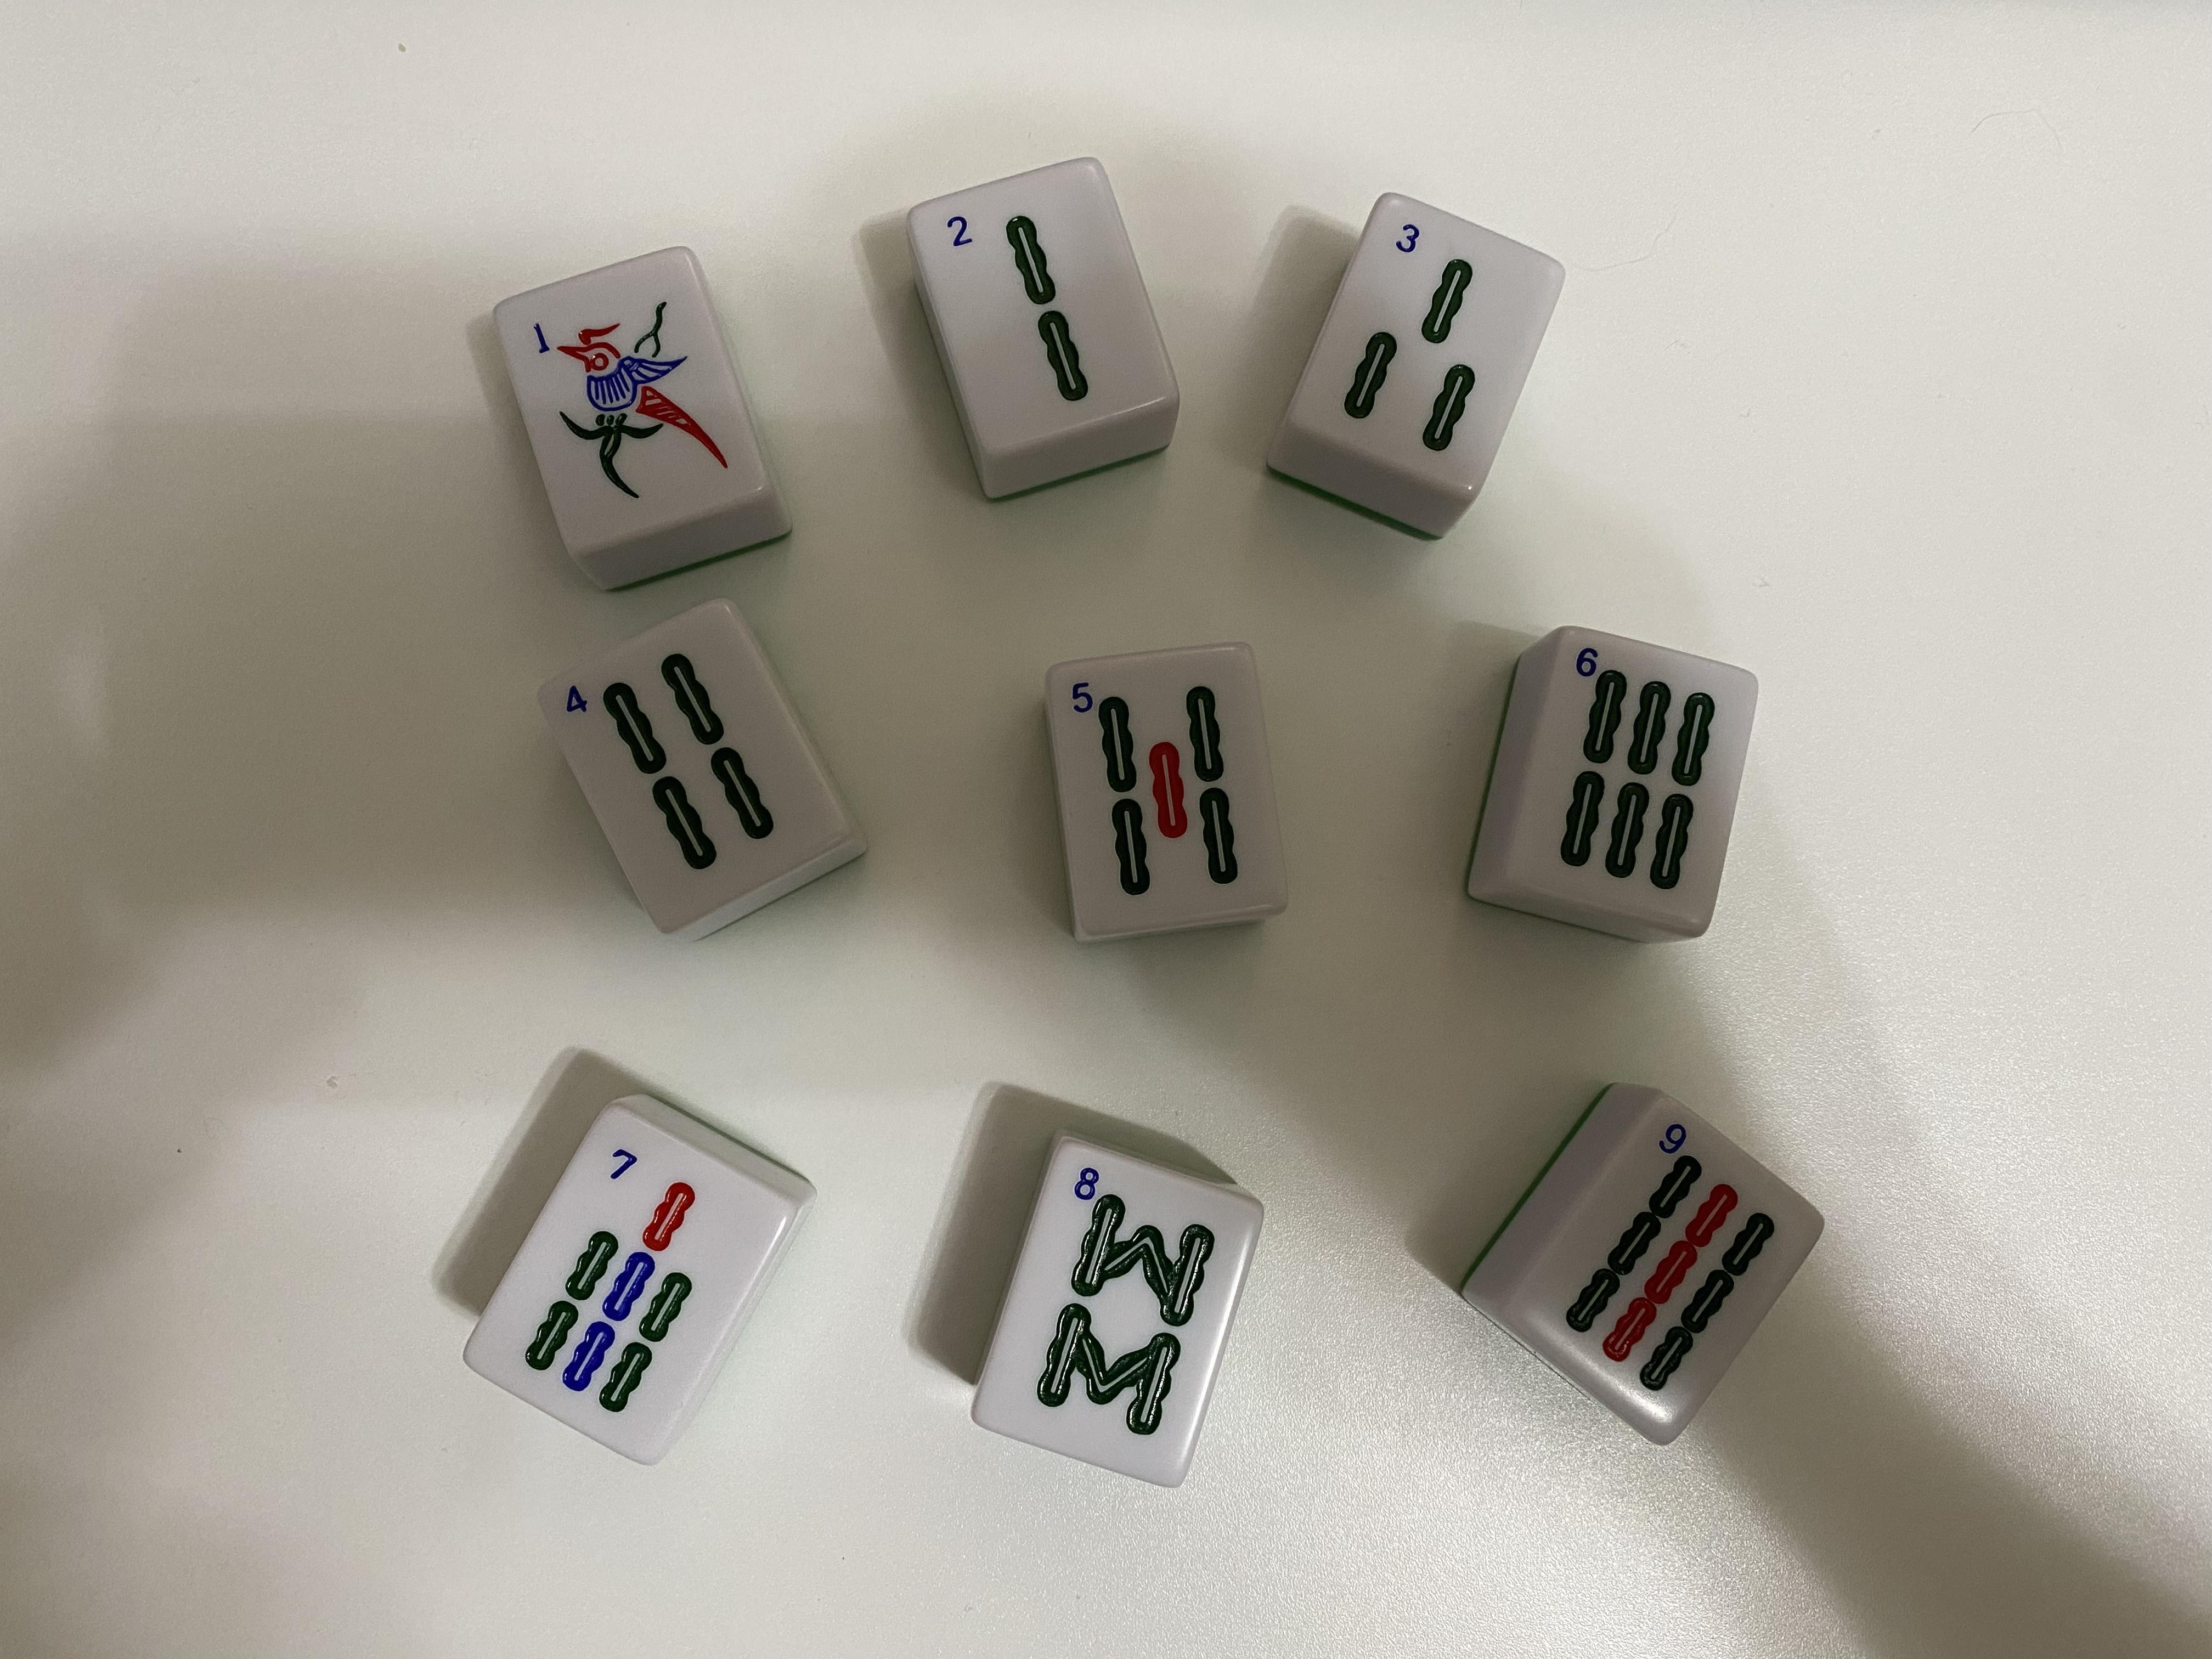bamboo-eight: (972, 1140, 1268, 1486)
bamboo-five: (1042, 643, 1289, 939)
bamboo-four: (528, 591, 871, 958)
bamboo-nine: (1498, 1093, 1836, 1448)
bamboo-one: (488, 242, 772, 559)
bamboo-seven: (458, 1077, 819, 1476)
bamboo-six: (1454, 612, 1768, 958)
bamboo-three: (1258, 183, 1578, 556)
bamboo-two: (892, 145, 1193, 507)
